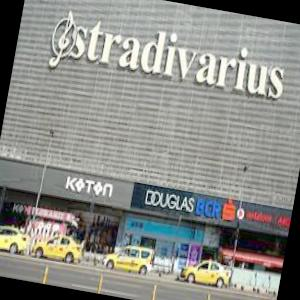stradivarius: (37, 0, 294, 116)
